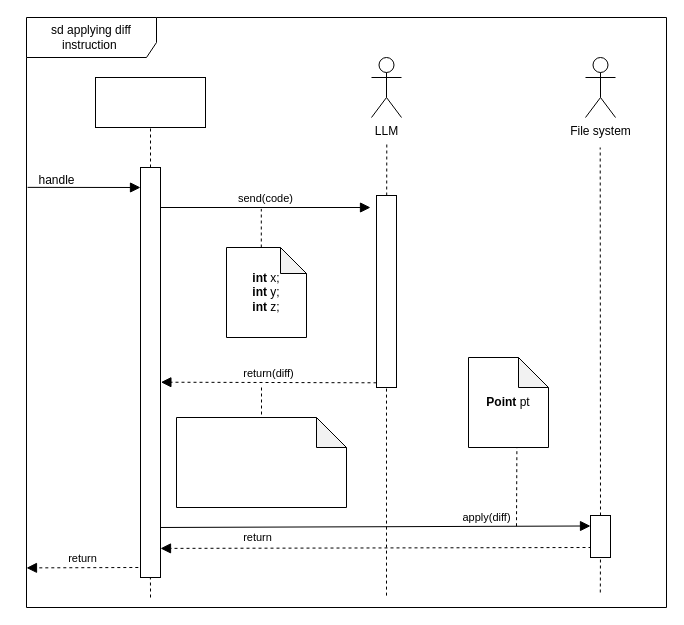
Some shapes in this 684 by 625 pixel diagram are drawn without their labels. The centre of each missing label's shape, as x and y in pixels:
:Handler: [150,102]
{ " fromLine ": 1, " oldContent ": " int x;...", " newContent ": " Point pt;" }: [261,462]
